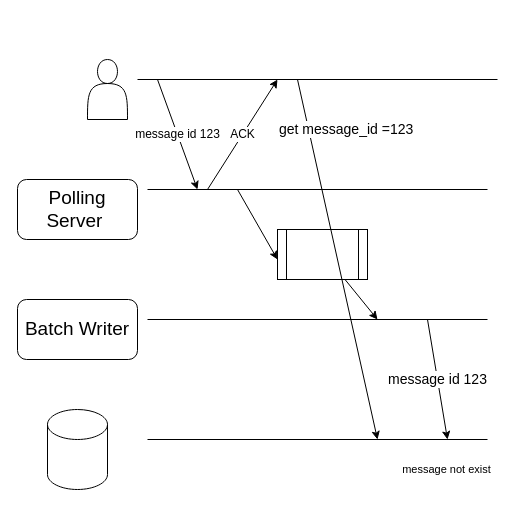
Some shapes in this 516 by 507 pixel diagram are drawn without their labels. Each missing label, with the centre of its shape:
queue: the point at 322,254
User A: the point at 107,89
